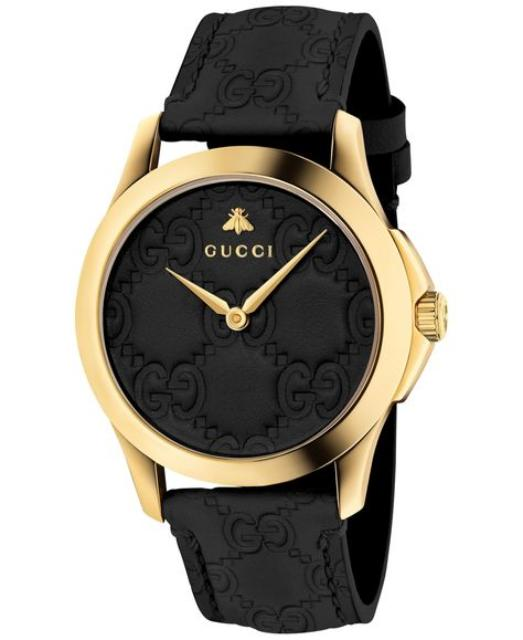Gucci: (200, 203, 278, 267)
